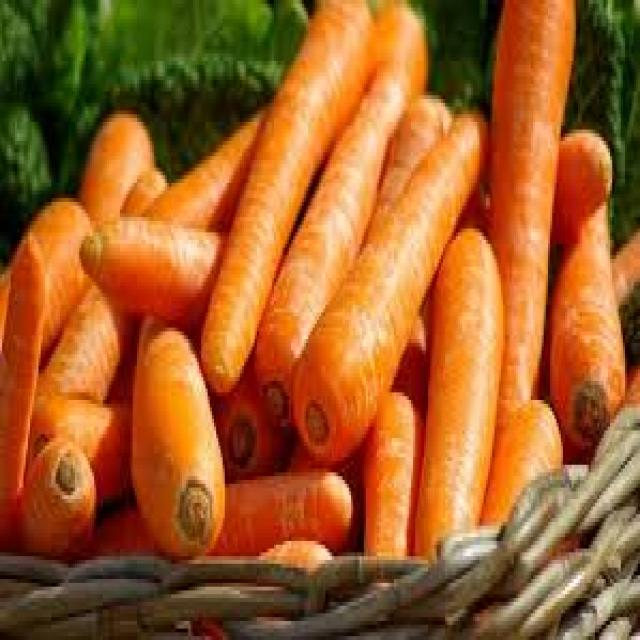organic waste: (199, 0, 379, 381), (289, 107, 486, 453), (255, 61, 404, 427), (486, 0, 574, 396), (36, 160, 169, 396), (413, 224, 503, 548), (128, 305, 225, 556), (92, 461, 355, 552), (90, 0, 304, 107), (0, 0, 90, 244), (548, 187, 627, 446), (561, 0, 638, 248), (139, 91, 274, 225), (0, 194, 92, 362), (77, 221, 225, 324), (0, 224, 41, 548), (364, 88, 449, 232), (144, 80, 266, 179), (23, 400, 128, 510), (199, 347, 283, 472), (479, 400, 561, 522), (360, 385, 418, 552), (22, 430, 94, 560), (75, 103, 154, 221), (544, 366, 638, 461), (411, 0, 488, 103), (550, 126, 608, 244), (370, 0, 425, 91), (394, 293, 437, 408), (601, 217, 638, 309), (254, 533, 330, 564)
